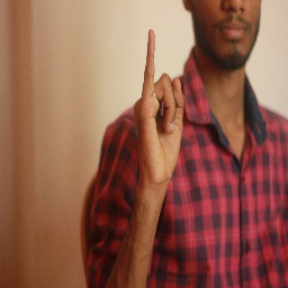I: (131, 25, 190, 177)
